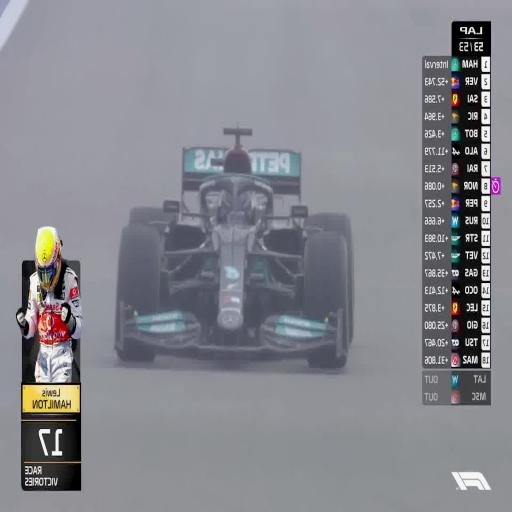f1_car: (115, 127, 354, 367)
